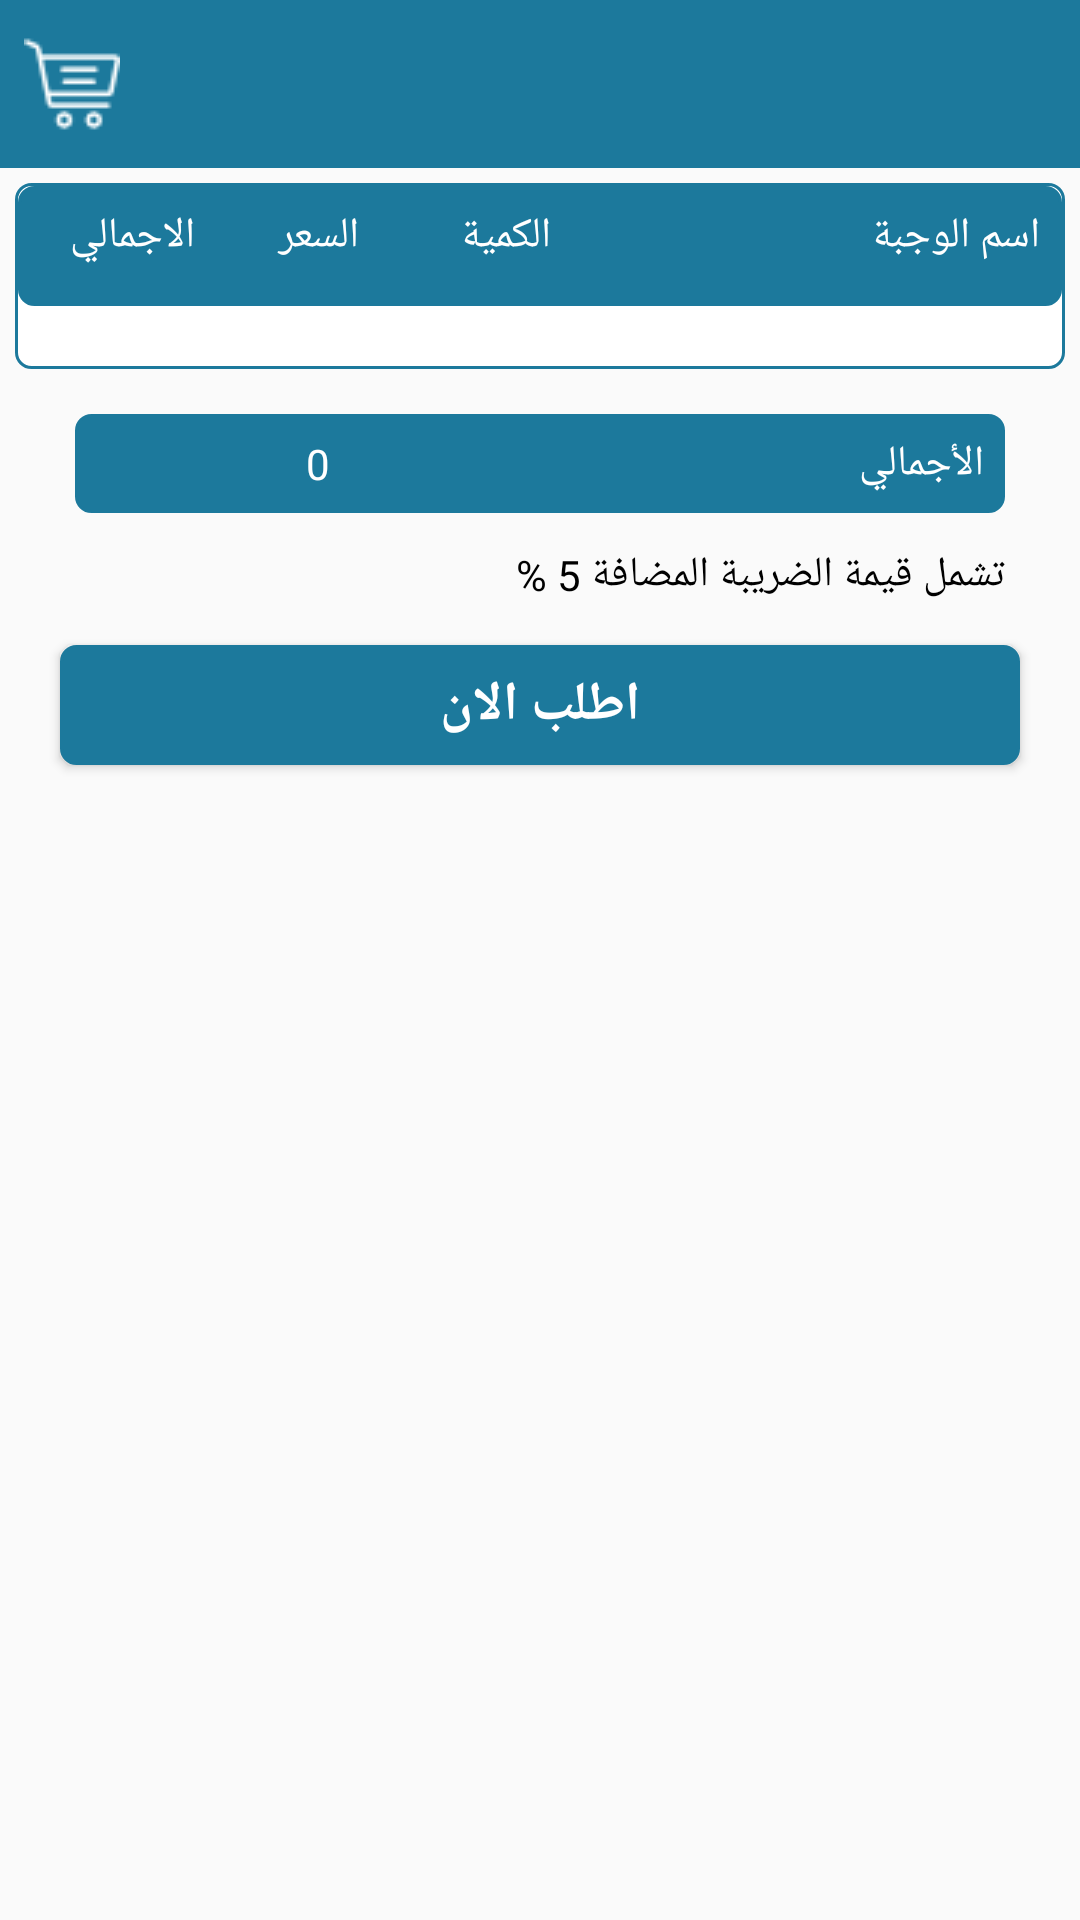

Named icons in this screenshot (1080px×1920px) and their centers, (x,y):
cart: (72,84)
